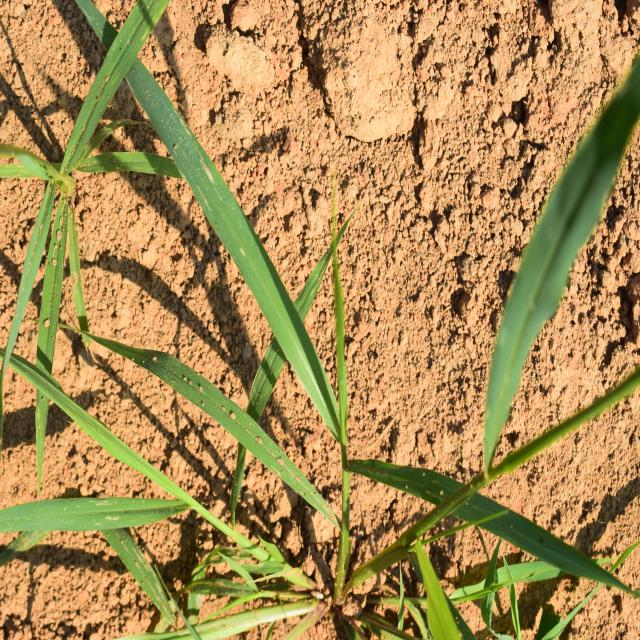green_foxtail: (136, 79, 432, 523), (0, 66, 193, 392)
